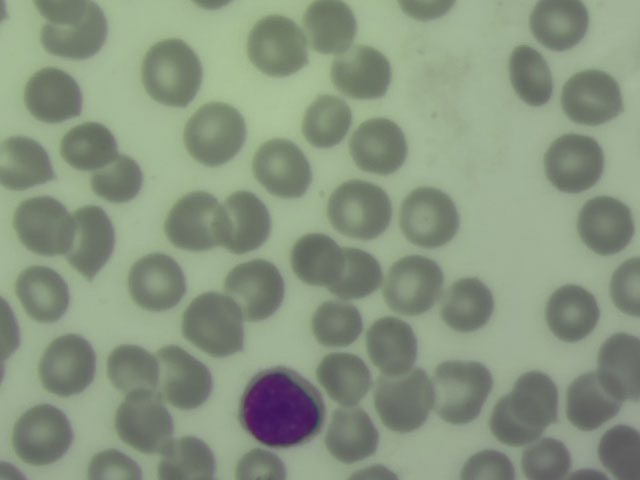RBC: (127, 256, 184, 311), (186, 299, 246, 351), (443, 276, 496, 330), (391, 254, 444, 308), (327, 243, 380, 297), (403, 185, 456, 239), (333, 183, 386, 237), (566, 371, 619, 425), (545, 282, 598, 336), (576, 200, 629, 254), (545, 136, 598, 190), (565, 69, 618, 123), (504, 48, 557, 102), (512, 375, 565, 429), (434, 366, 487, 420), (379, 378, 432, 432), (366, 319, 419, 373), (327, 409, 380, 463), (317, 350, 370, 404), (310, 296, 363, 350), (290, 231, 343, 285), (354, 119, 407, 173), (301, 95, 354, 149), (338, 45, 391, 99), (250, 21, 303, 75), (256, 138, 309, 192), (113, 396, 166, 450), (159, 349, 212, 403), (103, 341, 156, 395), (20, 407, 73, 461), (41, 337, 94, 391), (230, 260, 283, 314), (220, 195, 273, 249), (170, 194, 223, 248), (15, 267, 68, 321), (58, 215, 111, 269), (15, 199, 68, 253), (92, 152, 145, 206), (60, 117, 113, 171), (186, 107, 239, 161), (145, 48, 198, 102), (27, 68, 80, 122), (47, 8, 100, 62), (1, 135, 53, 189), (599, 331, 640, 399), (303, 1, 357, 52), (592, 424, 640, 480), (156, 437, 217, 480), (530, 1, 588, 45), (453, 444, 519, 480), (604, 256, 640, 319), (486, 402, 535, 448), (523, 435, 567, 480), (235, 444, 286, 480), (88, 445, 139, 480), (393, 1, 467, 23), (36, 1, 87, 21)
WBC: (240, 364, 323, 453)
